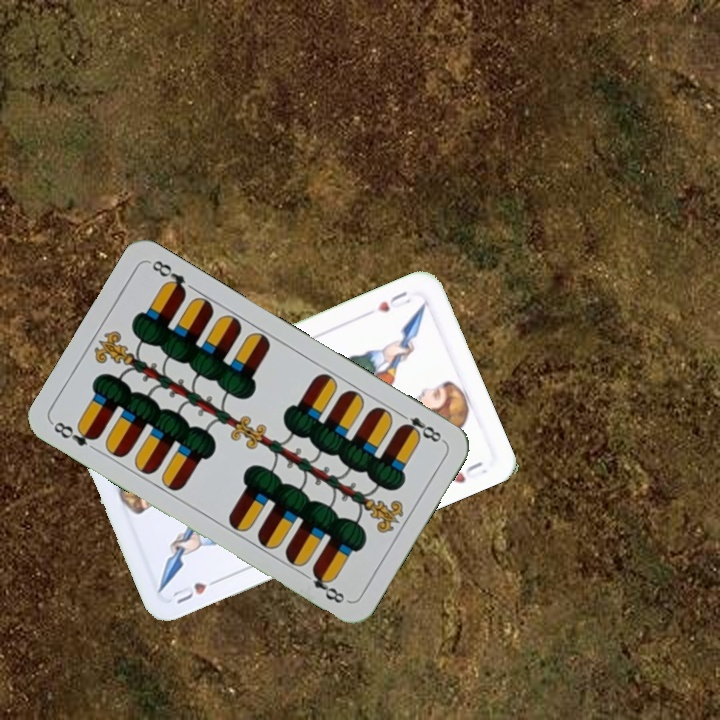E8: (394, 408, 447, 445), (48, 417, 101, 449)
HU: (167, 574, 224, 607), (373, 287, 414, 315)
